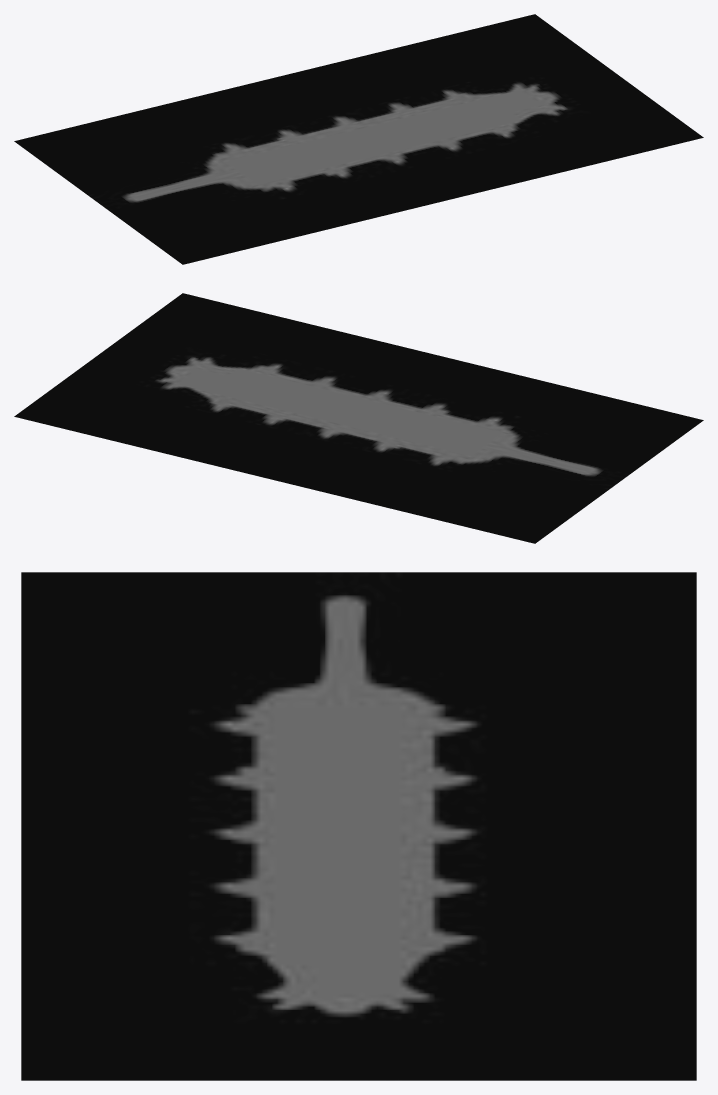
The picture shows the model from 3 angles, top to bottom: view 1: azimuth 30°, elevation 25°; view 2: azimuth 150°, elevation 25°; view 3: azimuth 270°, elevation 25°; orthographic projection. The views are drawn at different scales.
Visible parts, largest first — view 1: Box01; view 2: Box01; view 3: Box01.
Boxes of the visible parts, box(x1,y1,x2,y2) form: Box01: box(14, 14, 703, 264); Box01: box(14, 293, 703, 543); Box01: box(21, 572, 696, 1080).
Size of the model in its own units: 358 by 0 by 201.
1 material, 1 textured.
